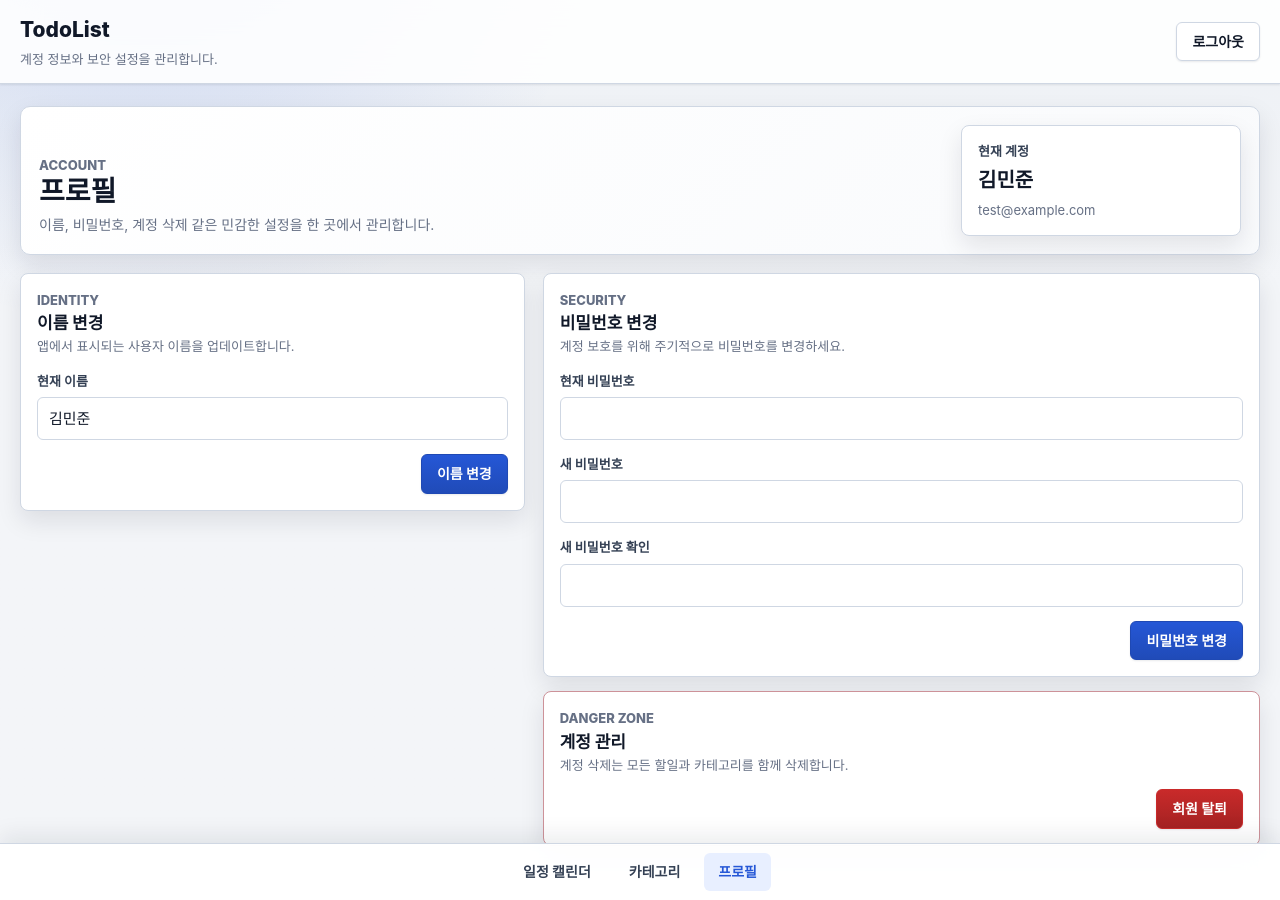
Test: ProfilePage — 이름 변경 › 이름 변경 성공 시 성공 메시지가 표시된다
Replace the text in the field labelled "현재 이름" with "이수아" at (272, 418), box [37,397,508,440]
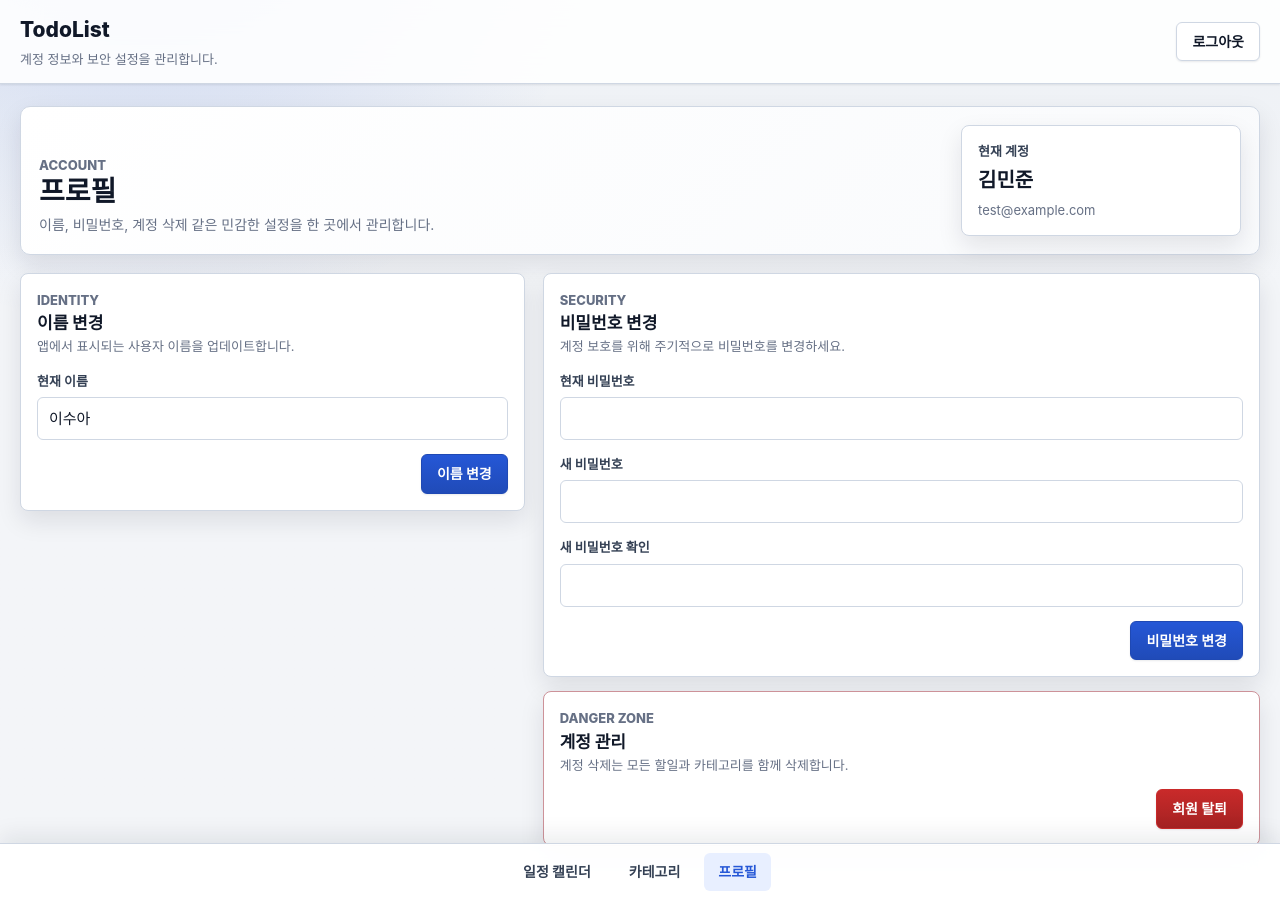
Click the button "이름 변경" at (464, 474), box [421,454,508,494]
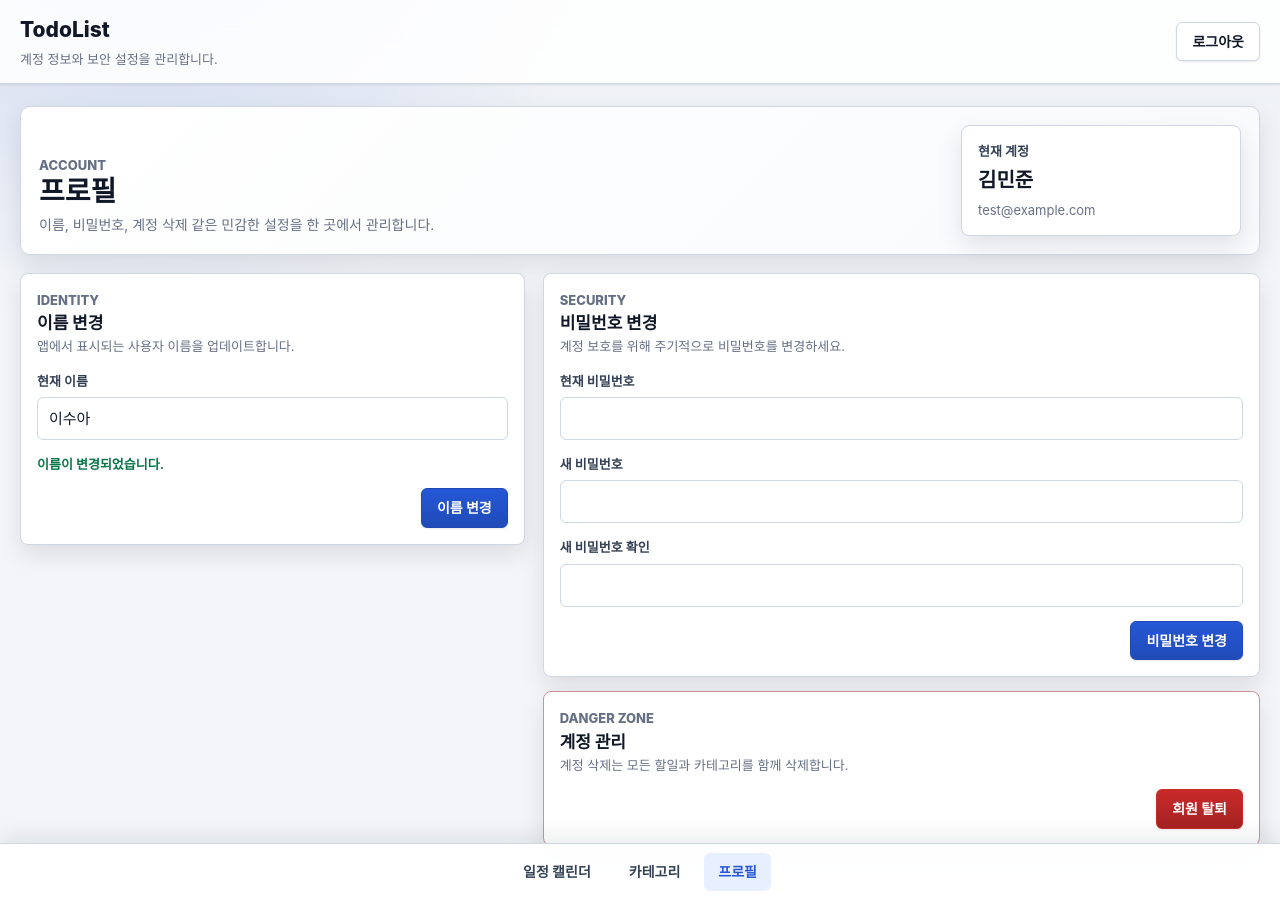
Check: the text "이름이 변경되었습니다." is shown, box [37,456,164,472]
